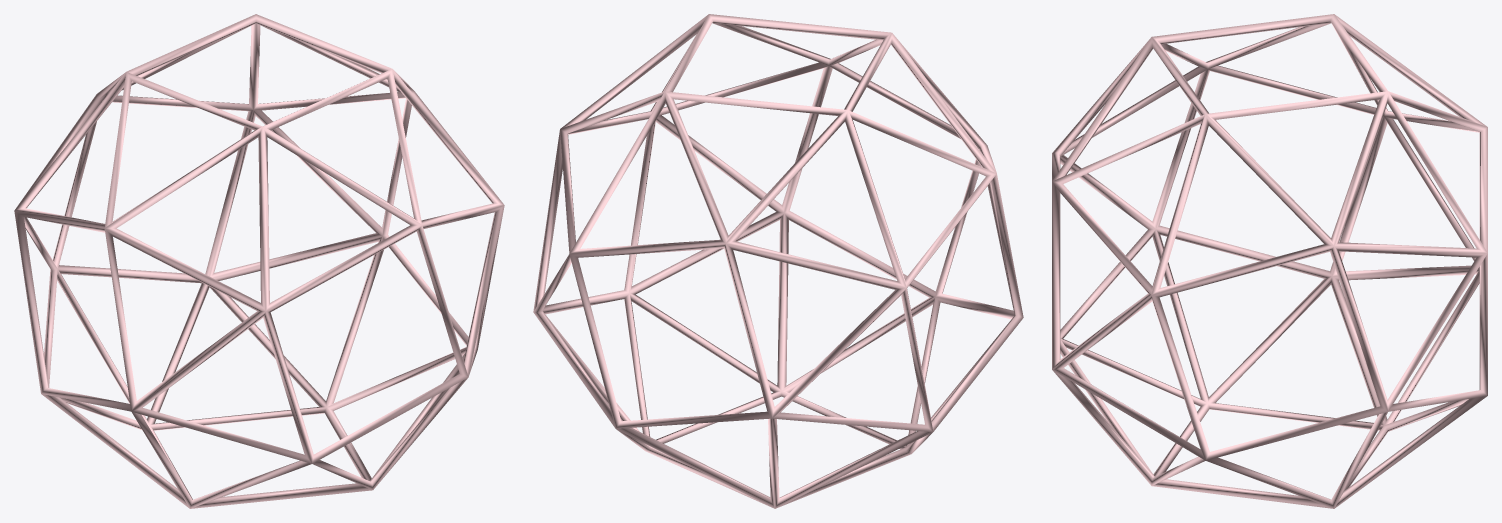
Rendered from SnubCube2.glb.
3 views of the same model, side by side, from view 1: azimuth 30°, elevation 25°; view 2: azimuth 150°, elevation 25°; view 3: azimuth 270°, elevation 25° (orthographic).
Visible parts, largest first — view 1: SnubCube; view 2: SnubCube; view 3: SnubCube.
Boxes of the visible parts, x1,y1,x2,y2 form: SnubCube: (14,14,504,508); SnubCube: (533,14,1023,508); SnubCube: (1052,14,1487,508).
Size of the model in its own units: 2.33 by 2.33 by 2.33.
